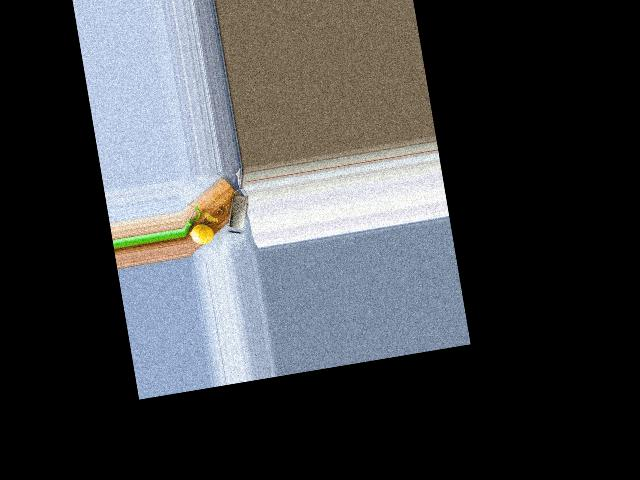lemon: (188, 222, 215, 246)
